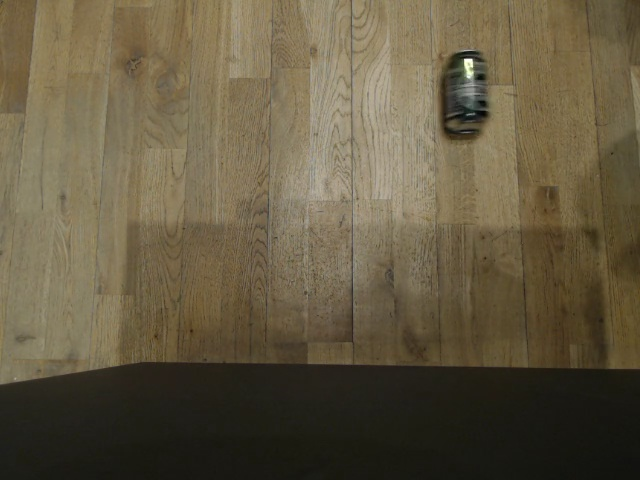beer: (437, 46, 496, 141)
